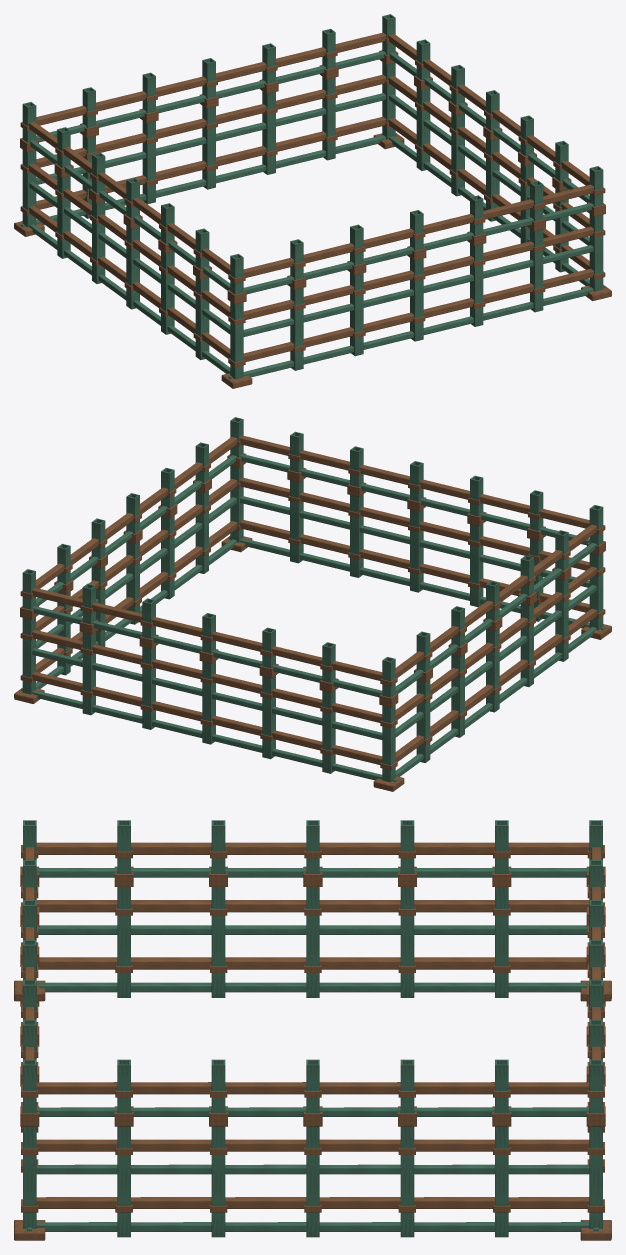
3 views of the same model, one above another, from view 1: azimuth 30°, elevation 25°; view 2: azimuth 150°, elevation 25°; view 3: azimuth 270°, elevation 25° (orthographic). The views are drawn at different scales.
Parts seen in each view (by area): view 1: Tier 0 side 0 post 5, Tier 0 side 0 post 3, Tier 0 side 0 post 4, Tier 0 side 2 post 1, Tier 0 side 0 post 2, Tier 0 side 0 post 1, Tier 0 side 2 post 2, Tier 0 side 2 post 3, Tier 0 side 2 post 4, Tier 0 side 0 post 0, Tier 0 side 1 post 0, Tier 0 side 3 post 5 (+13 smaller); view 2: Tier 0 side 2 post 1, Tier 0 side 2 post 3, Tier 0 side 2 post 2, Tier 0 side 2 post 4, Tier 0 side 0 post 5, Tier 0 side 2 post 5, Tier 0 side 0 post 4, Tier 0 side 0 post 3, Tier 0 side 0 post 2, Tier 0 side 3 post 0, Tier 0 side 3 post 1, Tier 0 side 2 post 0 (+10 smaller); view 3: Tier 0 side 1 post 2, Tier 0 side 1 post 4, Tier 0 side 3 post 2, Tier 0 side 3 post 4, Tier 0 side 1 post 1, Tier 0 side 1 post 3, Tier 0 side 1 post 5, Tier 0 side 3 post 1, Tier 0 side 3 post 3, Tier 0 side 3 post 5, Tier 0 side 1 post 0, Tier 0 side 2 post 0 (+84 smaller).
Boxes of the visible parts, x1=… form: Tier 0 side 0 post 5: x1=530, y1=229, x2=543, y2=312; Tier 0 side 0 post 3: x1=410, y1=258, x2=423, y2=341; Tier 0 side 0 post 4: x1=470, y1=243, x2=483, y2=326; Tier 0 side 2 post 1: x1=322, y1=77, x2=335, y2=160; Tier 0 side 0 post 2: x1=350, y1=272, x2=363, y2=356; Tier 0 side 0 post 1: x1=290, y1=287, x2=303, y2=370; Tier 0 side 2 post 2: x1=262, y1=91, x2=275, y2=174; Tier 0 side 2 post 3: x1=202, y1=106, x2=215, y2=189; Tier 0 side 2 post 4: x1=142, y1=121, x2=155, y2=204; Tier 0 side 0 post 0: x1=230, y1=302, x2=243, y2=379; Tier 0 side 1 post 0: x1=589, y1=214, x2=603, y2=291; Tier 0 side 3 post 5: x1=195, y1=276, x2=209, y2=359; Tier 0 side 2 post 1: x1=82, y1=632, x2=95, y2=715; Tier 0 side 2 post 3: x1=202, y1=661, x2=215, y2=744; Tier 0 side 2 post 2: x1=142, y1=646, x2=155, y2=729; Tier 0 side 2 post 4: x1=262, y1=675, x2=275, y2=759; Tier 0 side 0 post 5: x1=290, y1=480, x2=303, y2=563; Tier 0 side 2 post 5: x1=322, y1=690, x2=335, y2=773; Tier 0 side 0 post 4: x1=350, y1=494, x2=363, y2=577; Tier 0 side 0 post 3: x1=410, y1=509, x2=423, y2=592; Tier 0 side 0 post 2: x1=470, y1=524, x2=483, y2=607; Tier 0 side 3 post 0: x1=382, y1=705, x2=395, y2=782; Tier 0 side 3 post 1: x1=416, y1=679, x2=430, y2=762; Tier 0 side 2 post 0: x1=22, y1=617, x2=35, y2=694; Tier 0 side 1 post 2: x1=211, y1=1126, x2=225, y2=1237; Tier 0 side 1 post 4: x1=400, y1=1126, x2=414, y2=1237; Tier 0 side 3 post 2: x1=400, y1=887, x2=414, y2=997; Tier 0 side 3 post 4: x1=211, y1=887, x2=225, y2=997; Tier 0 side 1 post 1: x1=117, y1=1126, x2=130, y2=1237; Tier 0 side 1 post 3: x1=306, y1=1126, x2=319, y2=1237; Tier 0 side 1 post 5: x1=495, y1=1126, x2=508, y2=1237; Tier 0 side 3 post 1: x1=495, y1=887, x2=508, y2=997; Tier 0 side 3 post 3: x1=306, y1=887, x2=319, y2=997; Tier 0 side 3 post 5: x1=117, y1=887, x2=130, y2=997; Tier 0 side 1 post 0: x1=23, y1=1126, x2=36, y2=1228; Tier 0 side 2 post 0: x1=589, y1=1126, x2=602, y2=1228.
Bounding box in the file's own units: 2.85 × 0.9051 × 2.85.
Materials: 2 (2 with a texture image).
